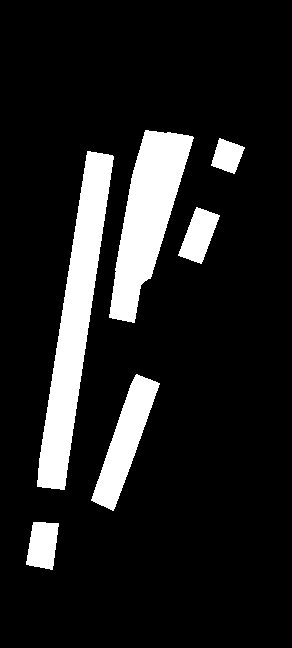parkingspot: (39, 151, 113, 466), (91, 374, 159, 510), (131, 132, 193, 278), (115, 130, 169, 274), (178, 207, 219, 263), (109, 268, 151, 322), (26, 522, 58, 569), (211, 138, 244, 173), (37, 461, 67, 489)
